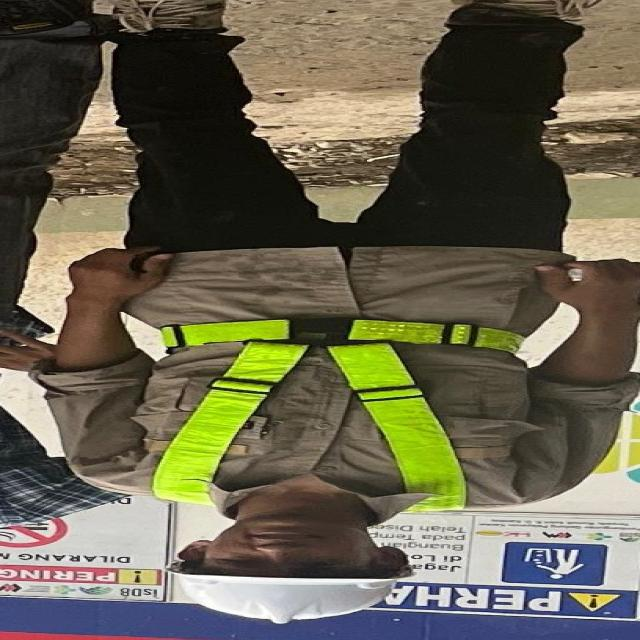safetyhelmet: (164, 512, 423, 627)
